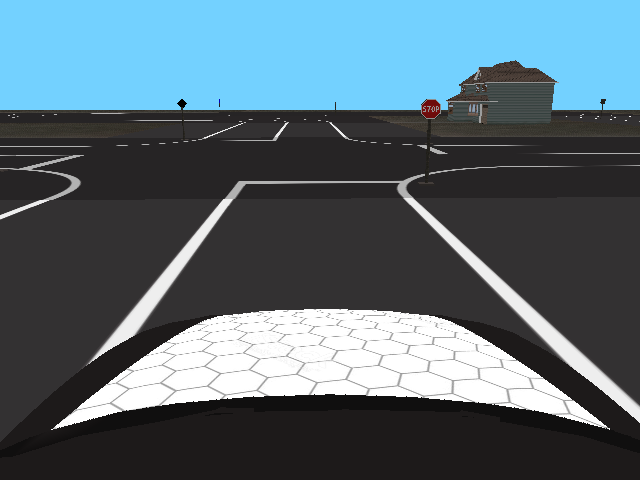stop: (421, 99, 441, 120)
